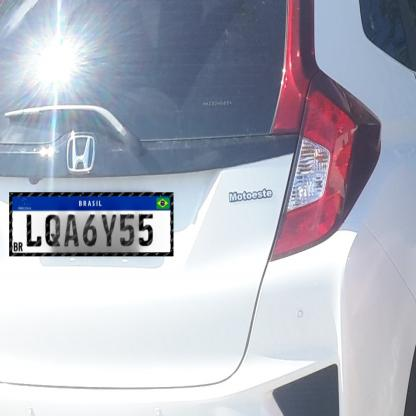PlacaM: (9, 192, 174, 257)
